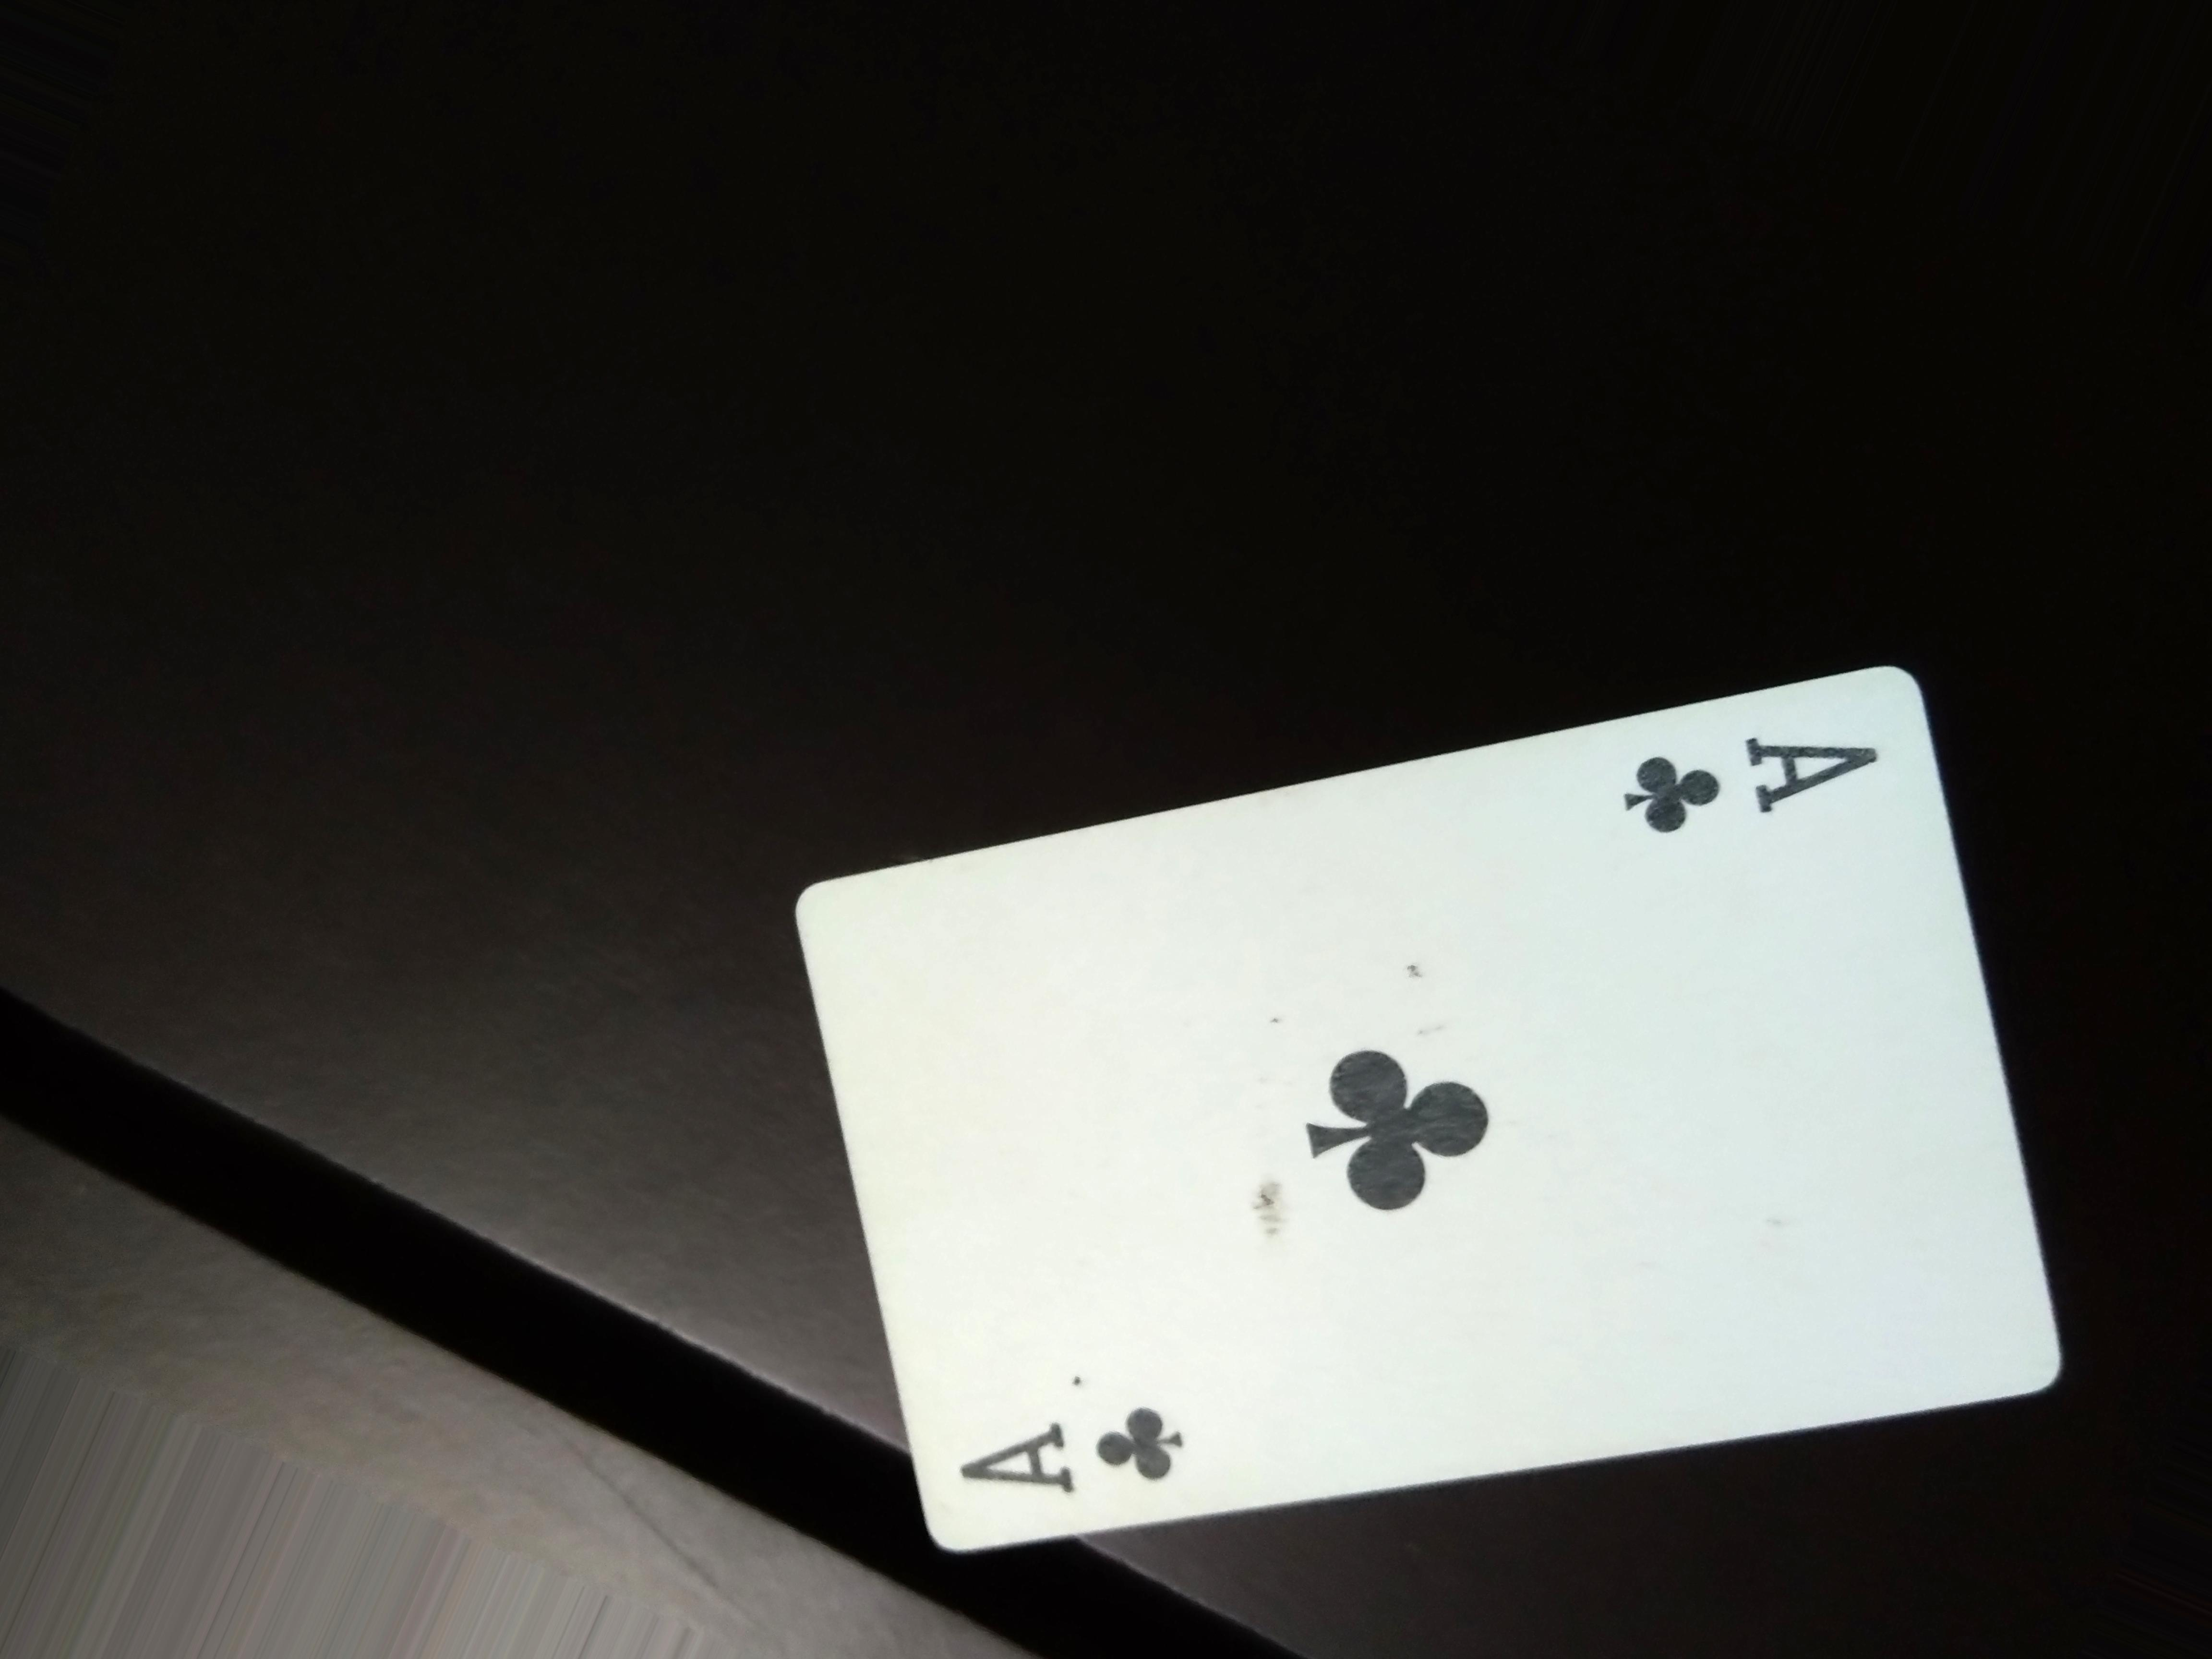AC: (951, 1389, 1184, 1509)
